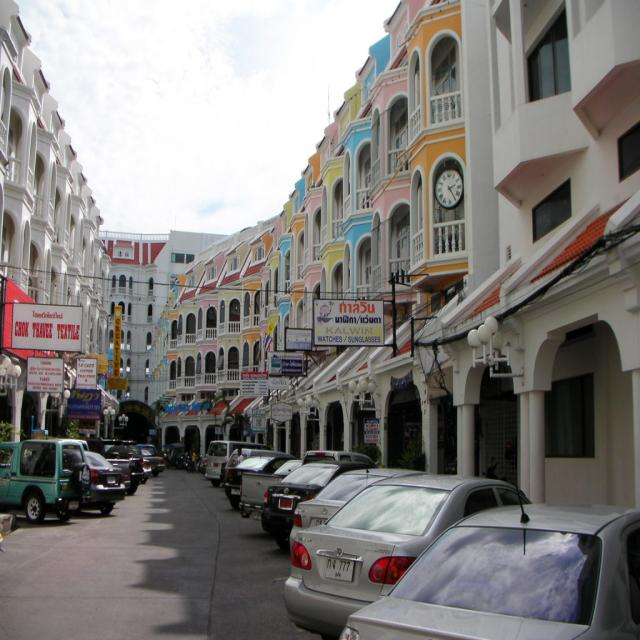car: (337, 461, 639, 638), (278, 467, 527, 638), (263, 454, 372, 539), (19, 445, 130, 513), (200, 433, 270, 495), (222, 454, 287, 512)
